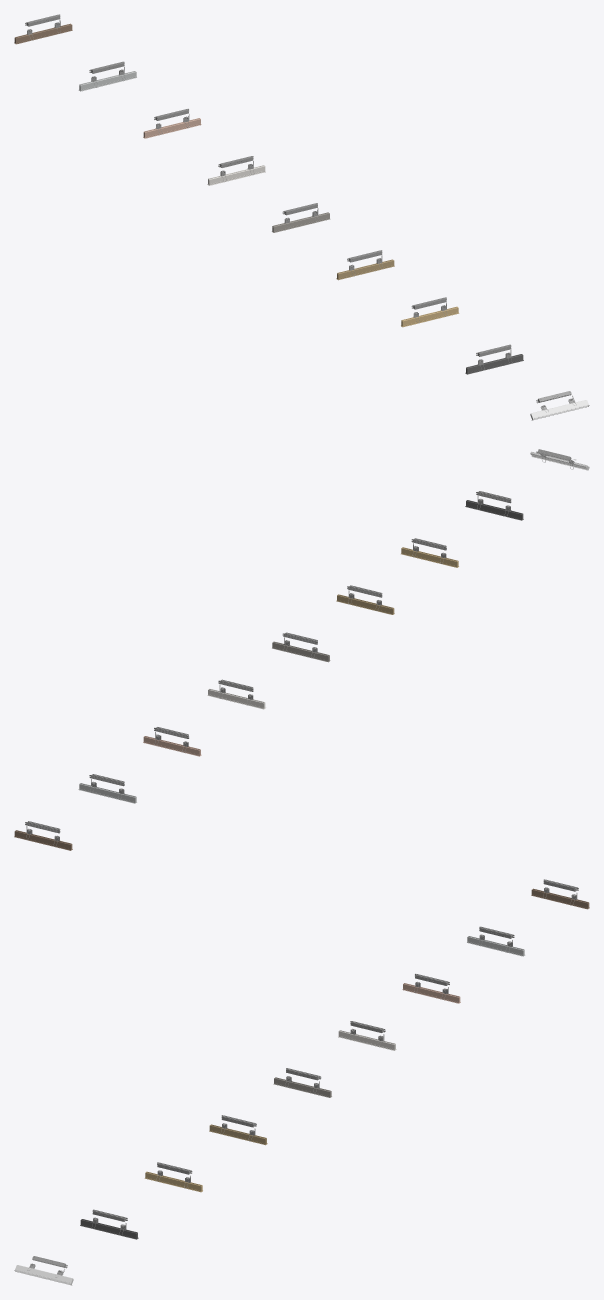
The model's file is Grid-microborda-18-focos.glb.
3 renders of one model, top to bottom at view 1: azimuth 30°, elevation 25°; view 2: azimuth 150°, elevation 25°; view 3: azimuth 330°, elevation 25°, orthographic.
Size of what is drawn, in the model's own units: 0.3288 by 0.098 by 5.22.
